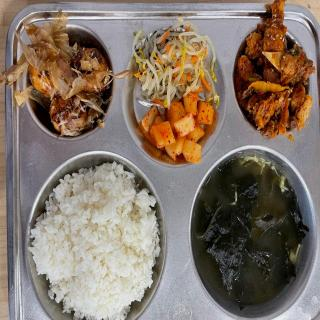Nasi: (28, 169, 159, 320)
